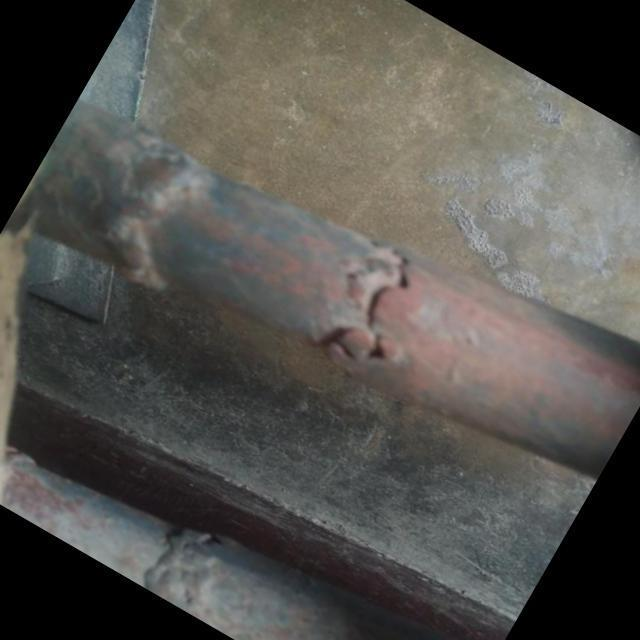defect: (317, 240, 416, 364)
